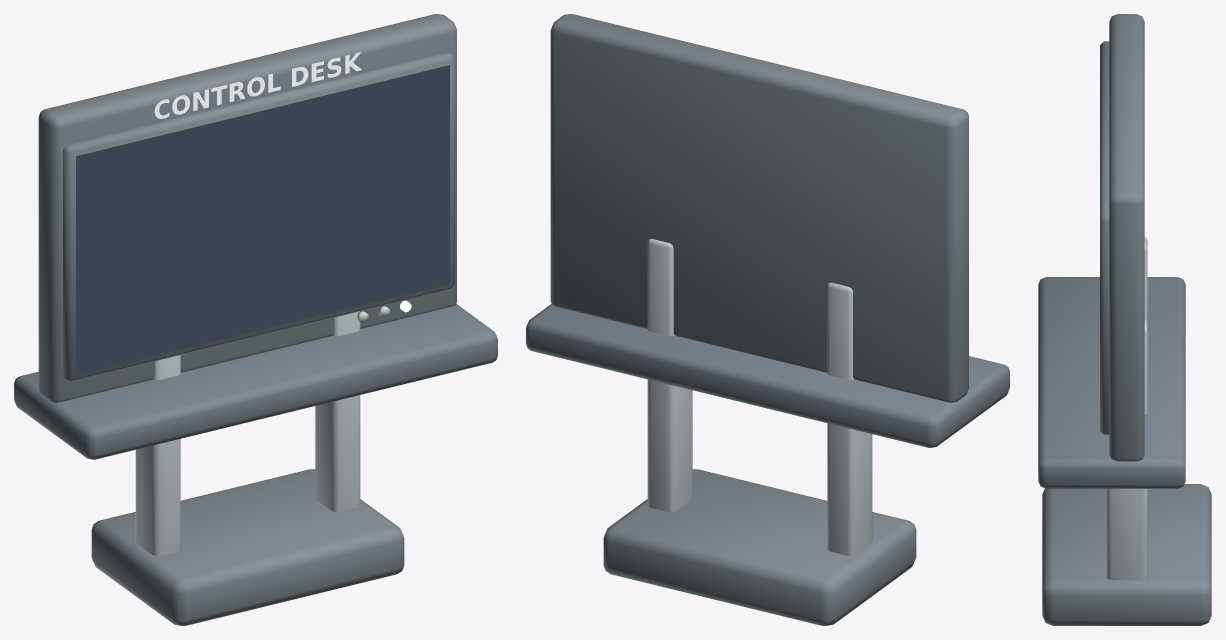
File: control_desk_ultra.glb
3 renders of one model, left to right at view 1: azimuth 30°, elevation 25°; view 2: azimuth 150°, elevation 25°; view 3: azimuth 270°, elevation 25°, orthographic. The views are drawn at different scales.
Parts seen in each view (by area): view 1: LiveViewSurface_glass, Desk_graphite, Base_frame, DisplayHousing_frame, LiveViewSurfaceFrame_frame, Support_steel, TypeLabel_white; view 2: DisplayHousing_frame, Base_frame, Desk_graphite, Support_steel; view 3: Desk_graphite, Base_frame, DisplayHousing_frame, Support_steel, LiveViewSurfaceFrame_frame.
Boxes of the visible parts, left/top/right/bottom form: LiveViewSurface_glass: left=76, top=65, right=449, bottom=375; Desk_graphite: left=14, top=304, right=497, bottom=459; Base_frame: left=91, top=469, right=404, bottom=625; DisplayHousing_frame: left=38, top=14, right=456, bottom=402; LiveViewSurfaceFrame_frame: left=63, top=52, right=454, bottom=381; Support_steel: left=135, top=311, right=360, bottom=555; TypeLabel_white: left=154, top=52, right=361, bottom=118; DisplayHousing_frame: left=550, top=14, right=968, bottom=402; Base_frame: left=603, top=469, right=916, bottom=625; Desk_graphite: left=526, top=304, right=1009, bottom=447; Support_steel: left=647, top=239, right=872, bottom=555; Desk_graphite: left=1038, top=277, right=1185, bottom=488; Base_frame: left=1042, top=484, right=1211, bottom=625; DisplayHousing_frame: left=1109, top=14, right=1144, bottom=461; Support_steel: left=1106, top=237, right=1147, bottom=579; LiveViewSurfaceFrame_frame: left=1100, top=41, right=1109, bottom=435.
Size of the model in its own units: 1.63 by 1.91 by 0.635.
